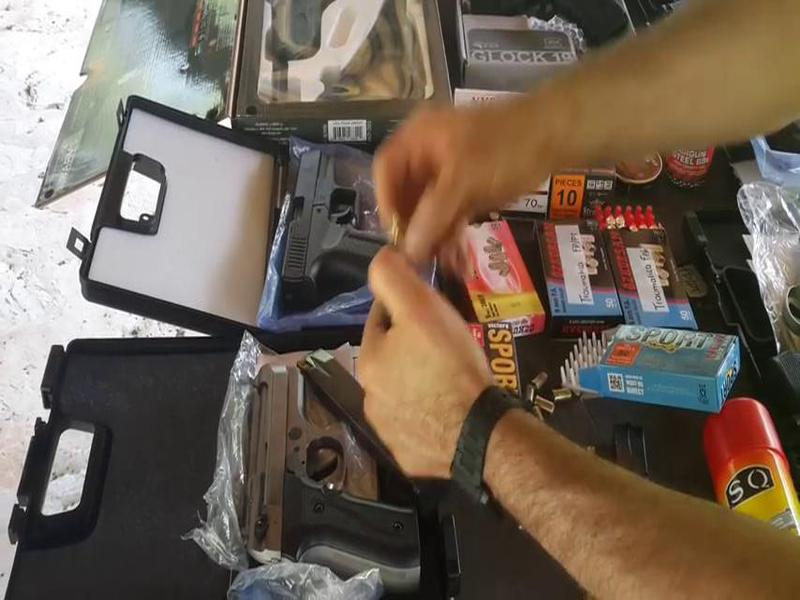Pistola: (196, 357, 443, 573), (265, 141, 435, 308)
